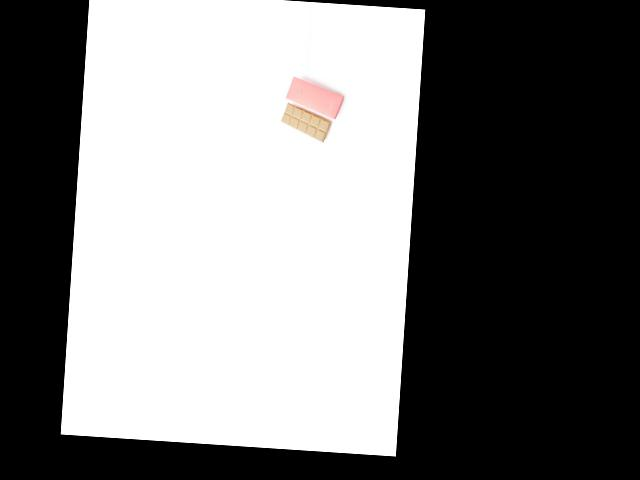chocolate: (278, 99, 335, 143)
